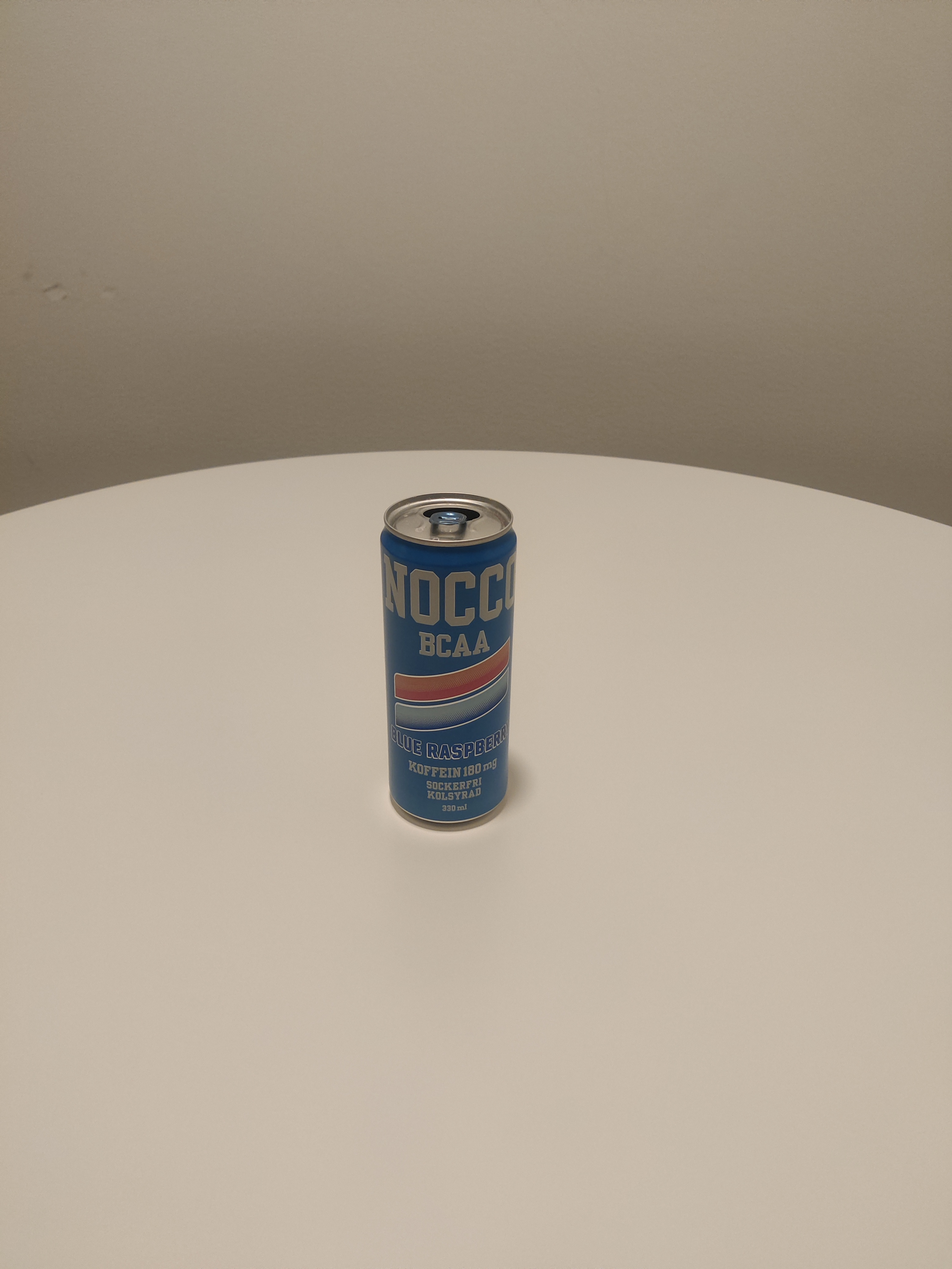Pantburk: (381, 492, 519, 828)
